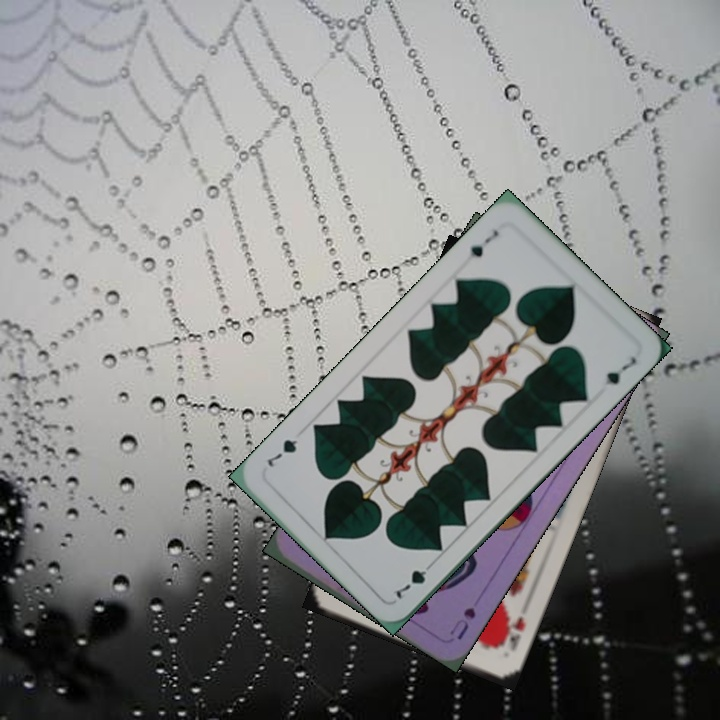G7: (388, 557, 438, 602), (460, 225, 501, 264)
HK: (493, 611, 528, 655)
SU: (445, 603, 479, 643)
